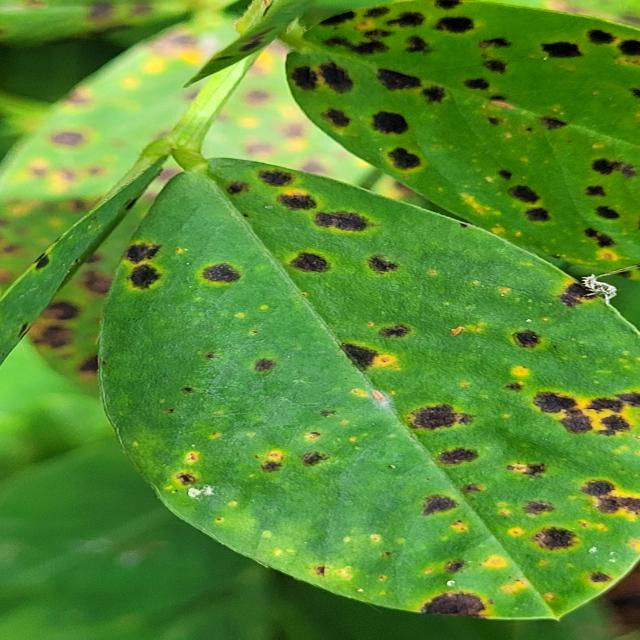Ground nut_tikka leaf spot: (110, 162, 640, 619), (283, 3, 640, 274)
